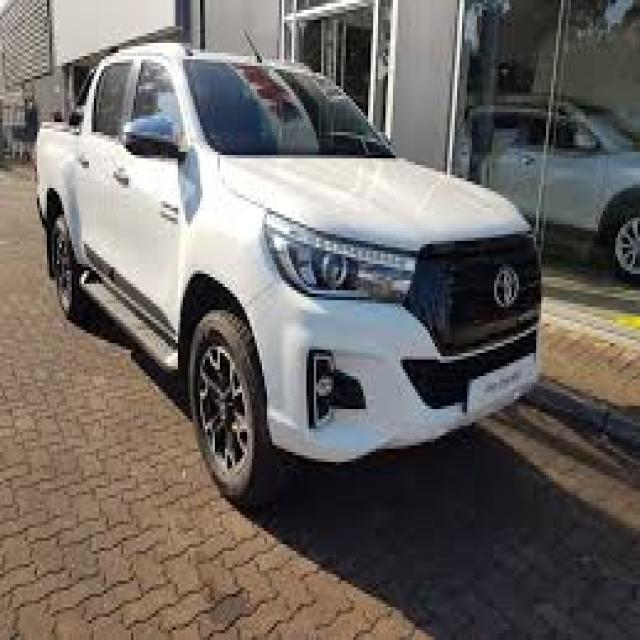Pickup Trucks: (22, 33, 546, 515)
